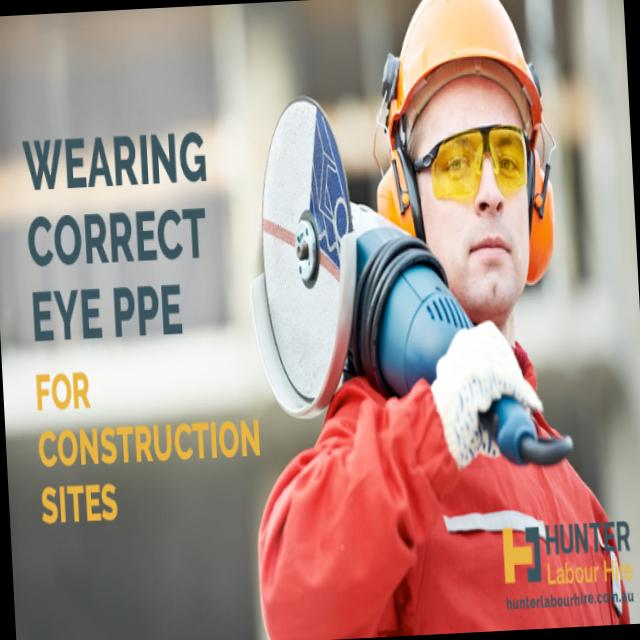goggles: (406, 121, 536, 207)
helmet: (379, 0, 547, 166)
no-vest: (338, 371, 626, 639)
